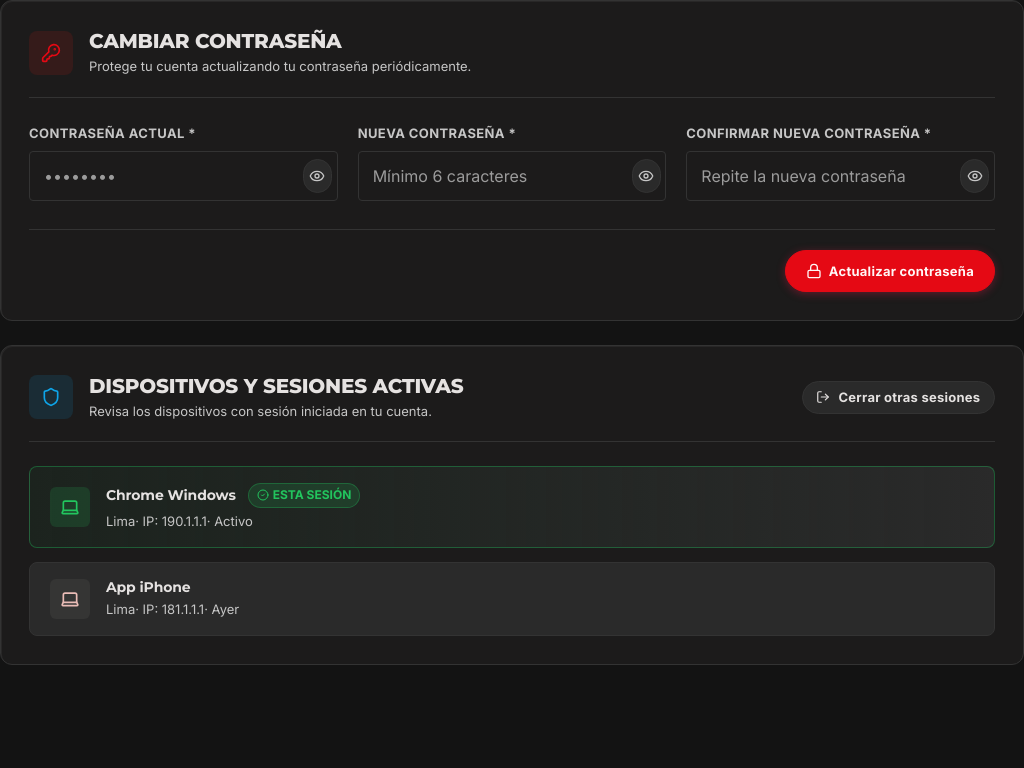
Test case: PerfilSeguridadForm.vue › rechaza una clave sin números como lo haría la API
Type "admin1234567" into the password field with id "seguridad-actual".
click(183, 176); type("admin1234567")  # box [29,151,338,201]
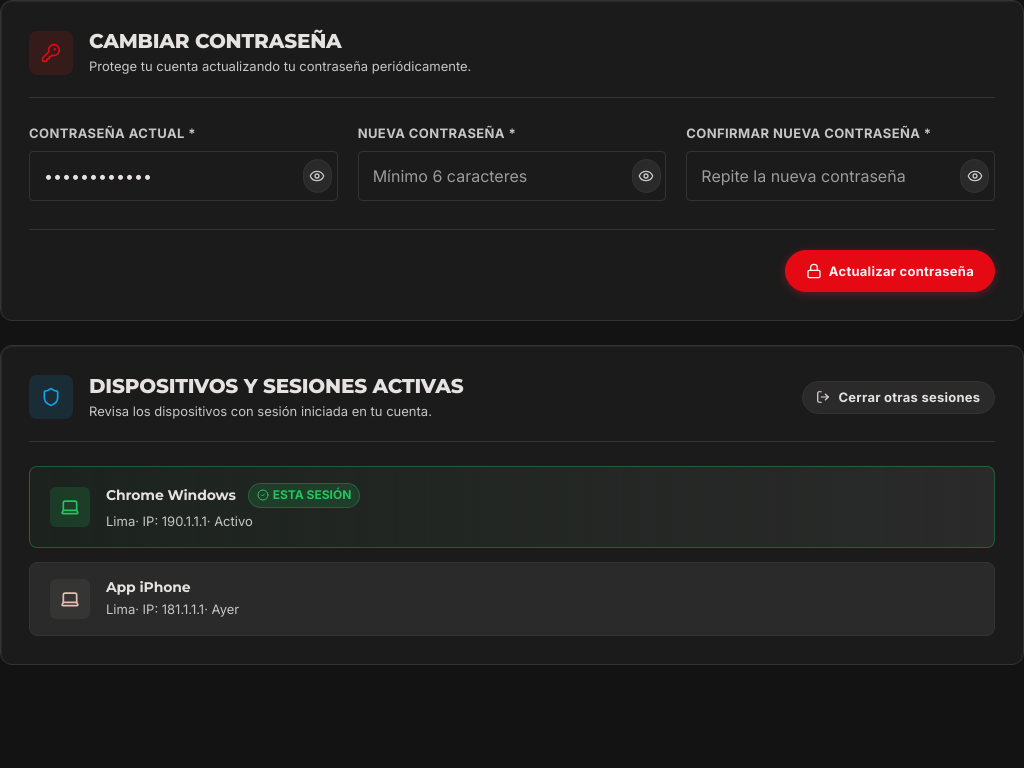
Type "claveSinNumerosLarga" into the password field with id "seguridad-nueva".
click(512, 176); type("claveSinNumerosLarga")  # box [358,151,666,201]
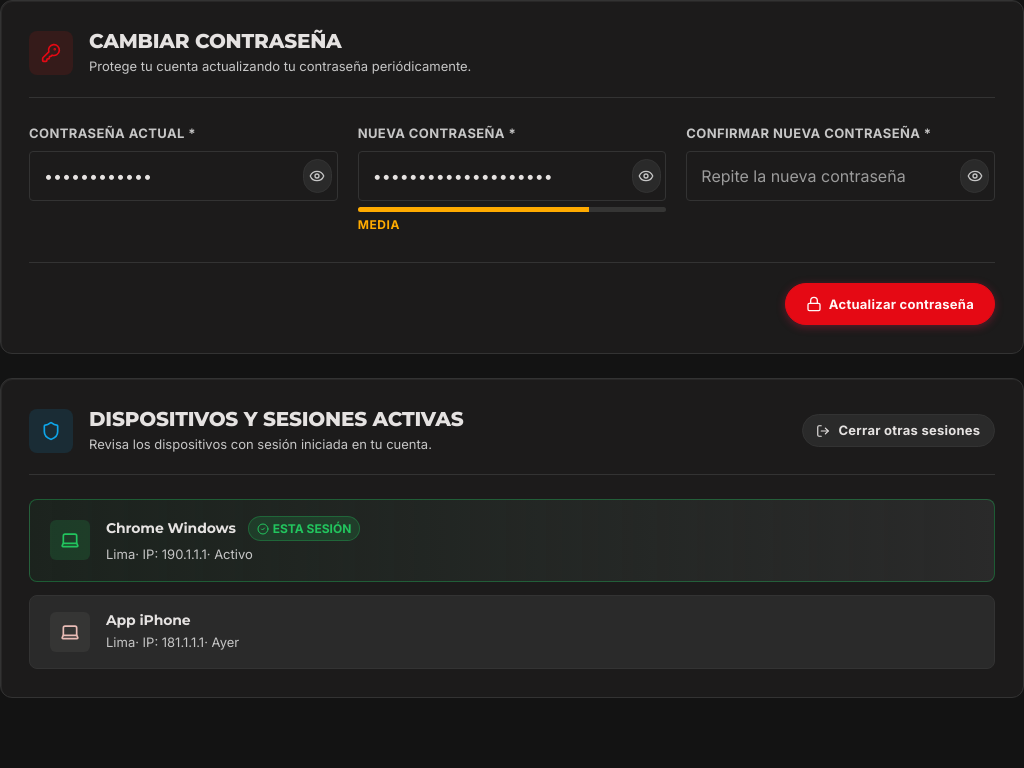
Type "claveSinNumerosLarga" into the password field with id "seguridad-confirmacion".
click(841, 176); type("claveSinNumerosLarga")  # box [686,151,995,201]
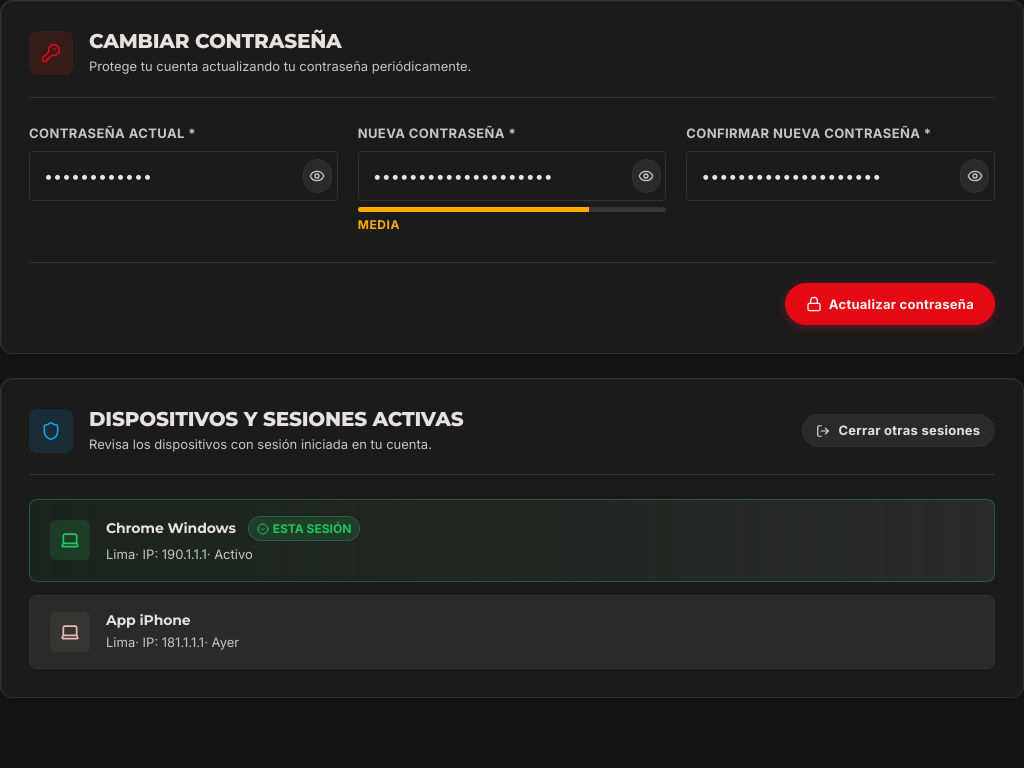
Submit the form, box [0,0,1023,354]
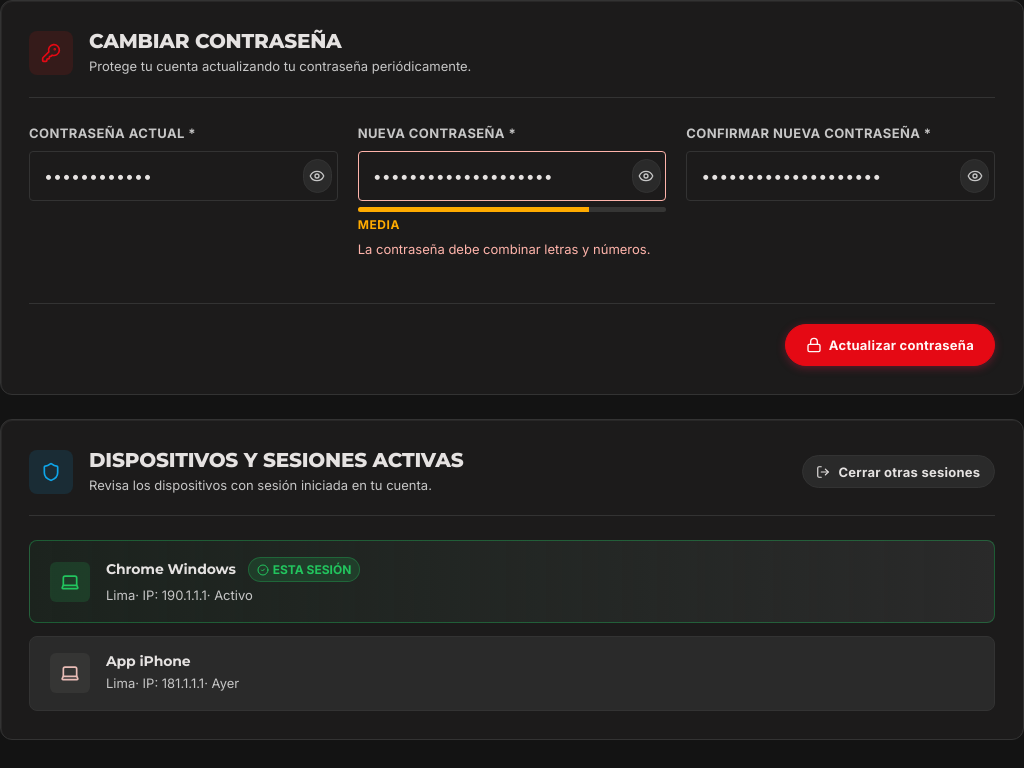
Check: the text "letras y números" is shown, box [358,241,650,257]
